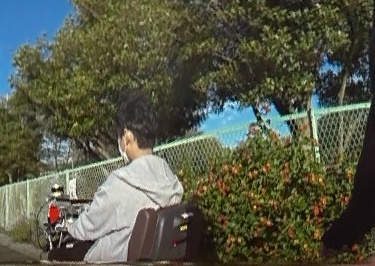person: (73, 90, 182, 260)
